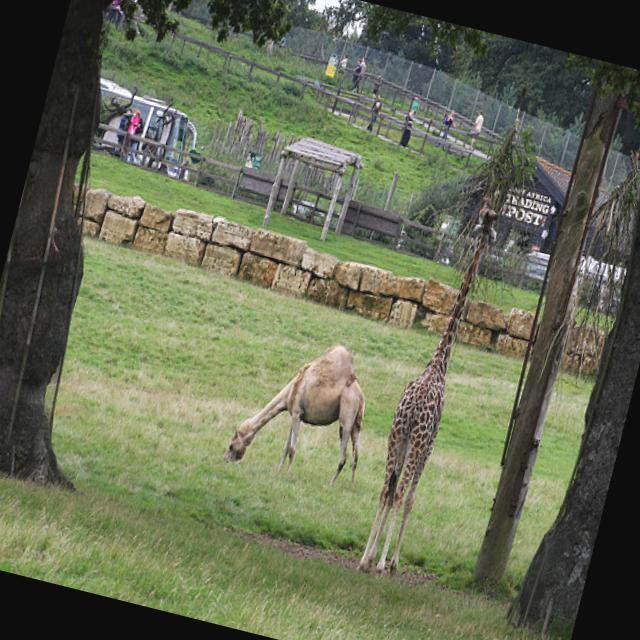Vehicle: (80, 77, 206, 176)
